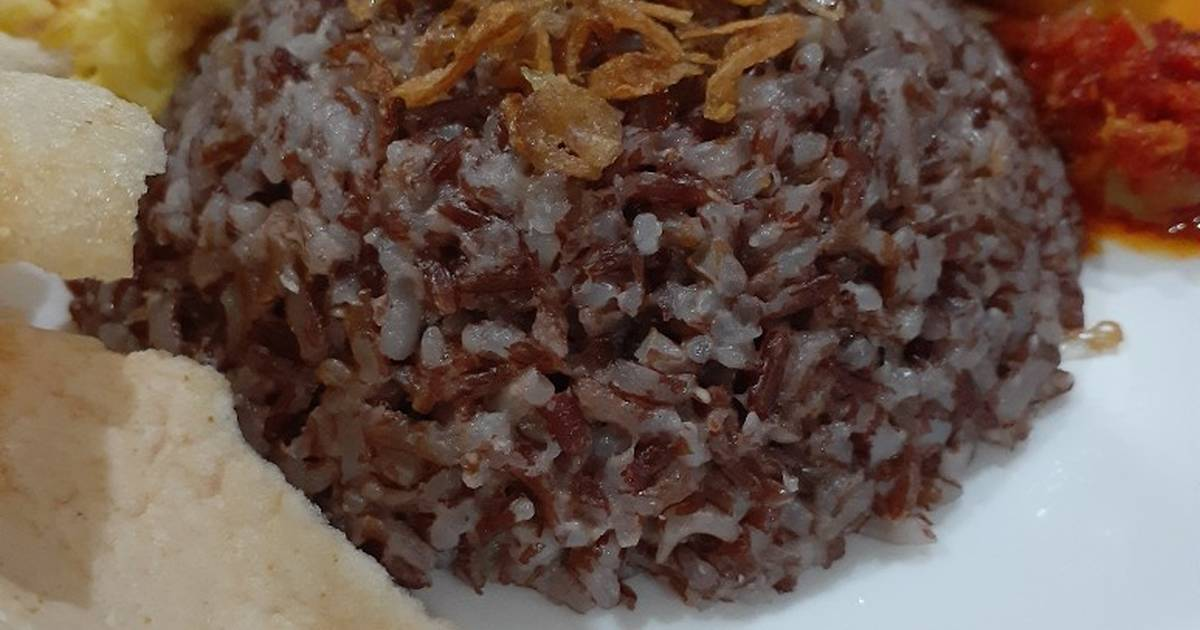Nasi Merah: (96, 7, 1102, 573)
